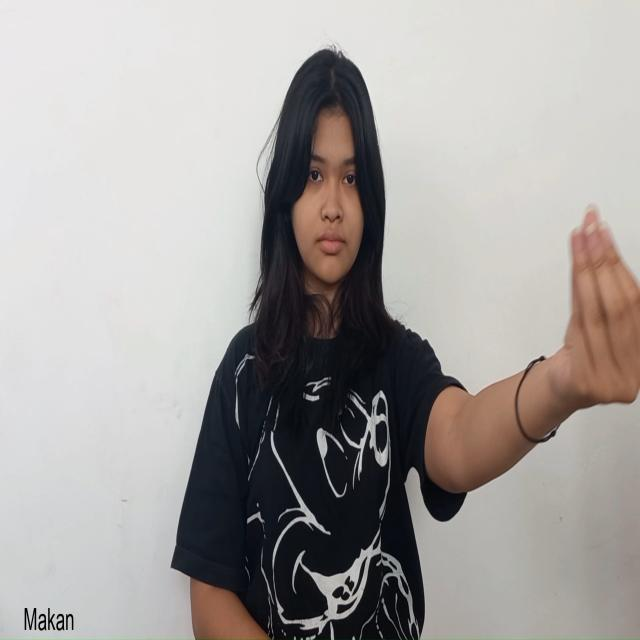Makan -BISINDO-: (559, 202, 640, 431)
